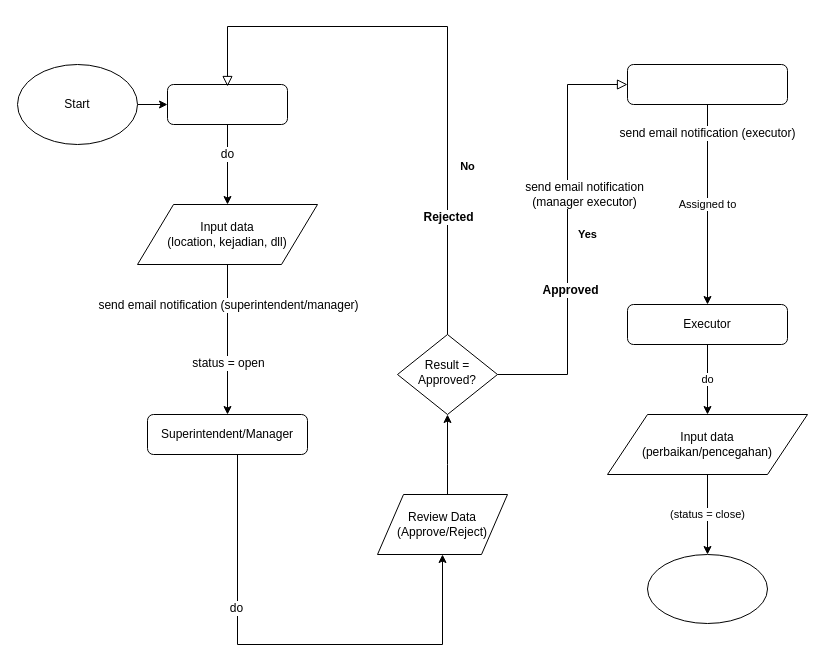
This 825x670 diagram has some shape labels left out. Here are the shapes that lost their labels. From the top down, the box of each, then its label:
(166, 84, 288, 124): Initiator
(626, 64, 788, 104): Manager Executor (Dept. Terkait)
(646, 554, 768, 624): End
